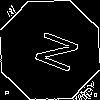N: (25, 25, 80, 75)
